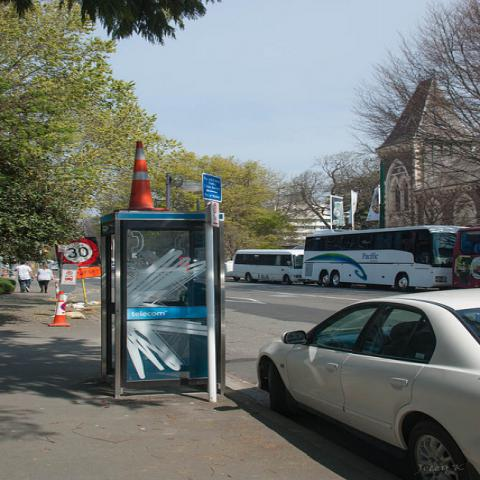bus: (300, 223, 472, 292), (226, 249, 306, 284)
car: (259, 289, 479, 479)
